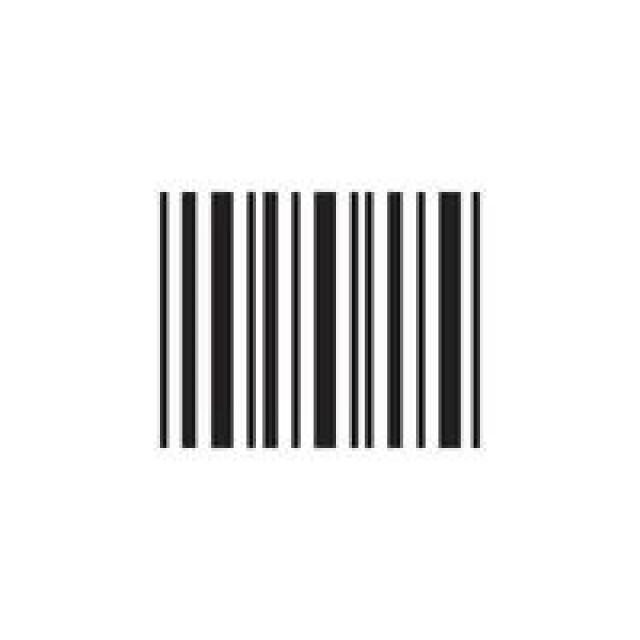Barkod: (147, 180, 502, 465)
